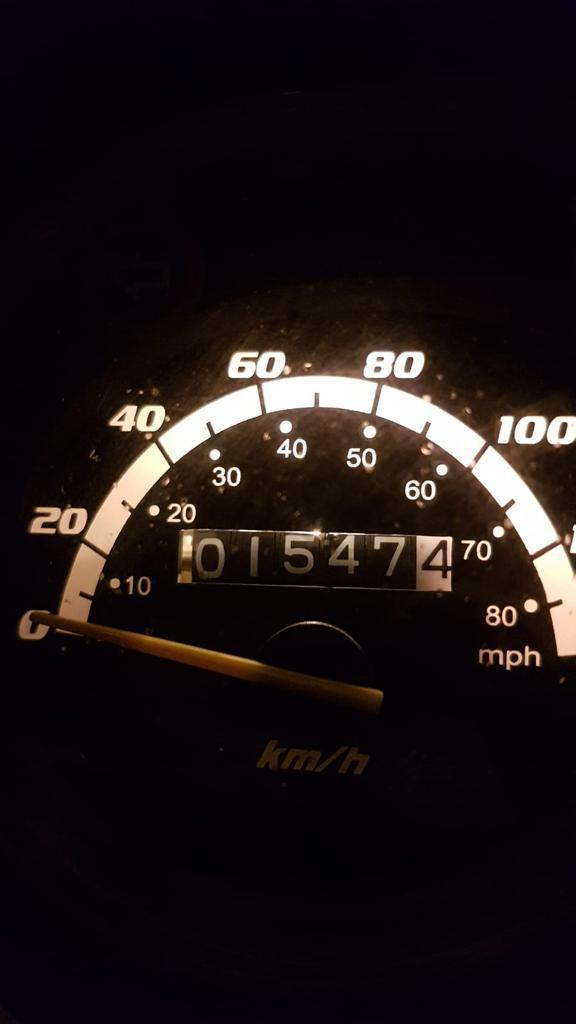0: (194, 535, 227, 581)
1: (244, 532, 263, 579)
4: (325, 534, 362, 576), (419, 538, 453, 580)
5: (281, 532, 315, 578)
7: (371, 532, 409, 578)
odometer: (174, 523, 457, 596)
